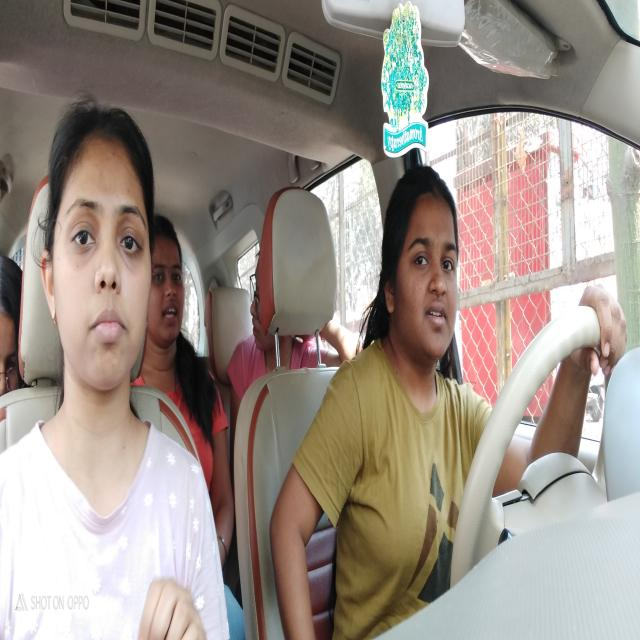person: (37, 90, 157, 402), (379, 164, 467, 374), (148, 202, 190, 355), (0, 238, 24, 406), (246, 254, 274, 358)
